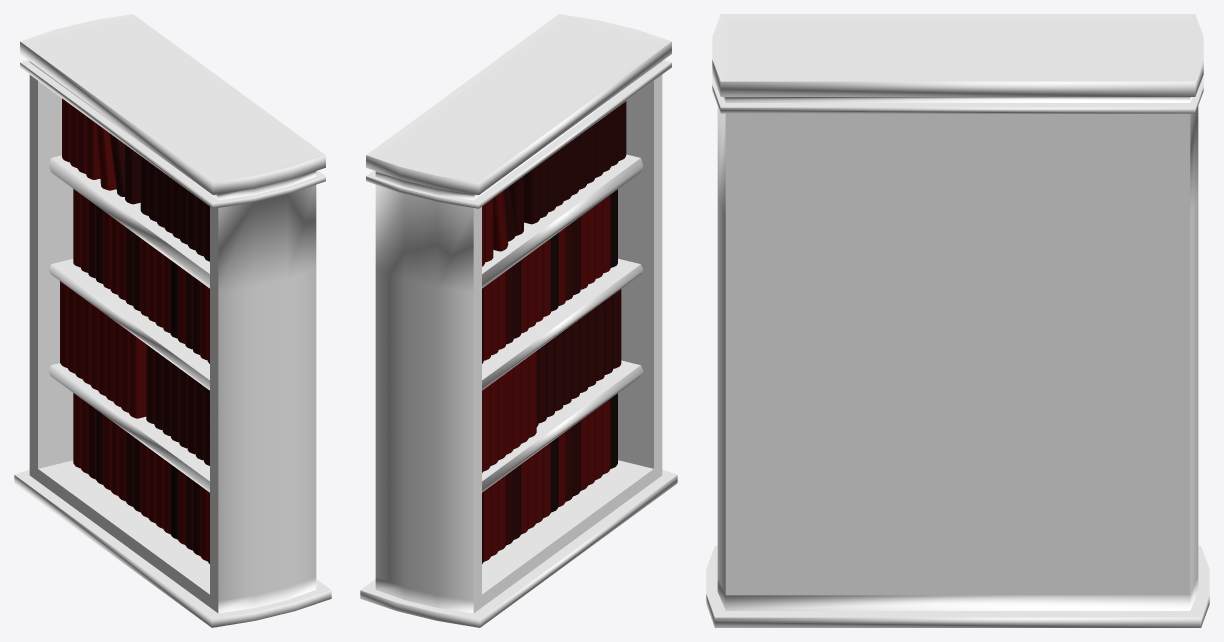
The model's file is Left1.fbx.
3 views of the same model, side by side, from view 1: azimuth 30°, elevation 25°; view 2: azimuth 150°, elevation 25°; view 3: azimuth 270°, elevation 25° (orthographic). The views are drawn at different scales.
Parts seen in each view (by area): view 1: Book Shelf.010; view 2: Book Shelf.010; view 3: Book Shelf.010.
Boxes of the visible parts, <box> form: Book Shelf.010: <box>14,14,331,627</box>; Book Shelf.010: <box>360,14,677,627</box>; Book Shelf.010: <box>706,14,1209,627</box>.
Size of the model in its own units: 381 by 1344 by 1127.
